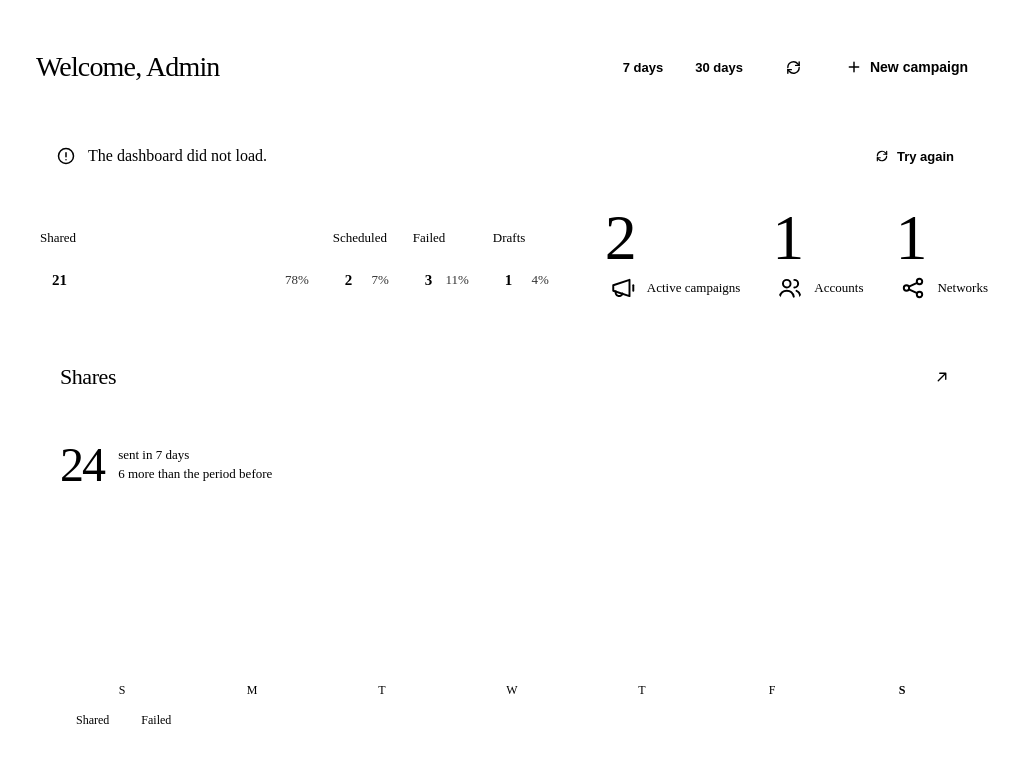
Test: Dashboard screen › shows a load error with Try again
The width and height of the screenshot is (1024, 768).
Expected: the message shows "The dashboard did not load.", [88,147,267,164]
Click the button "Try again". click: [914, 156]
box: [861,138,968,174]
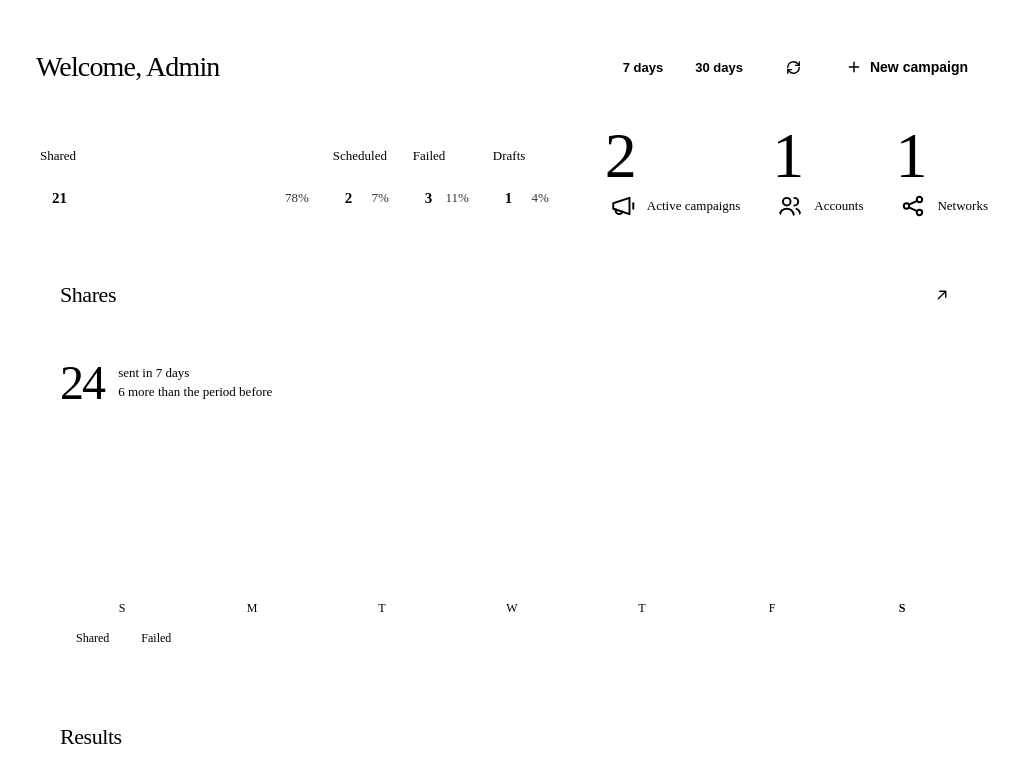
Now the message "The dashboard did not load. Try again" is gone
